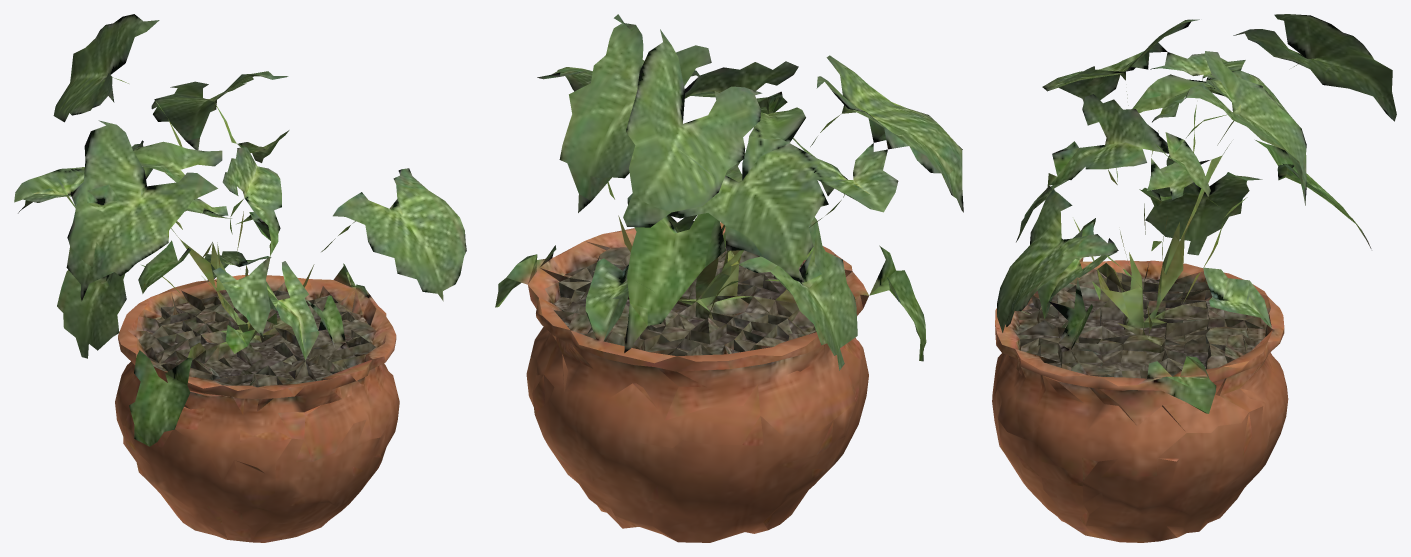
Rendered from plant.glb.
The picture shows the model from 3 angles, left to right: view 1: azimuth 30°, elevation 25°; view 2: azimuth 150°, elevation 25°; view 3: azimuth 270°, elevation 25°; orthographic projection. The views are drawn at different scales.
Visible parts, largest first — view 1: mesh; view 2: mesh; view 3: mesh.
Part boxes in pixels (box(x1,y1,x2,y2)): mesh: box(14, 14, 466, 542); mesh: box(495, 14, 963, 542); mesh: box(992, 14, 1396, 542).
Bounding box in the file's own units: 0.6941 × 0.84 × 0.6415.
Materials: 1 (1 with a texture image).
